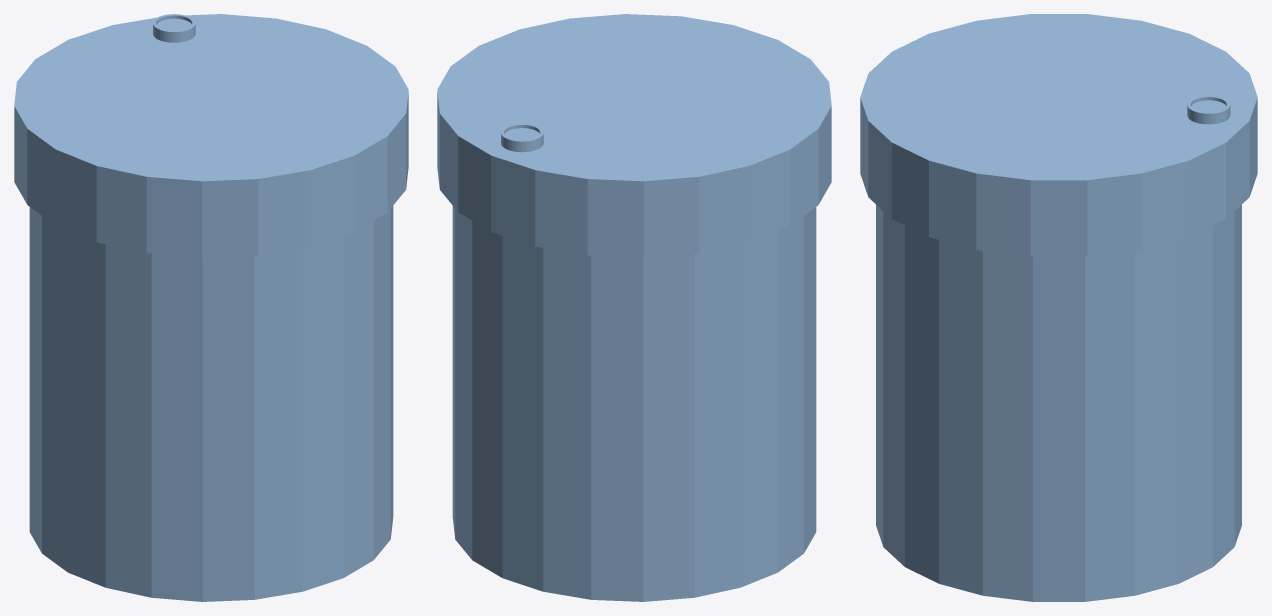
File: Container.fbx
3 renders of one model, left to right at view 1: azimuth 30°, elevation 25°; view 2: azimuth 150°, elevation 25°; view 3: azimuth 270°, elevation 25°, orthographic.
Visible parts, largest first — view 1: LP; view 2: LP; view 3: LP.
Part boxes in pixels (x1,y1,x2,y2): LP: [14, 14, 408, 601]; LP: [437, 14, 831, 601]; LP: [860, 14, 1257, 601].
Size of the model in its own units: 419 by 516 by 423.
